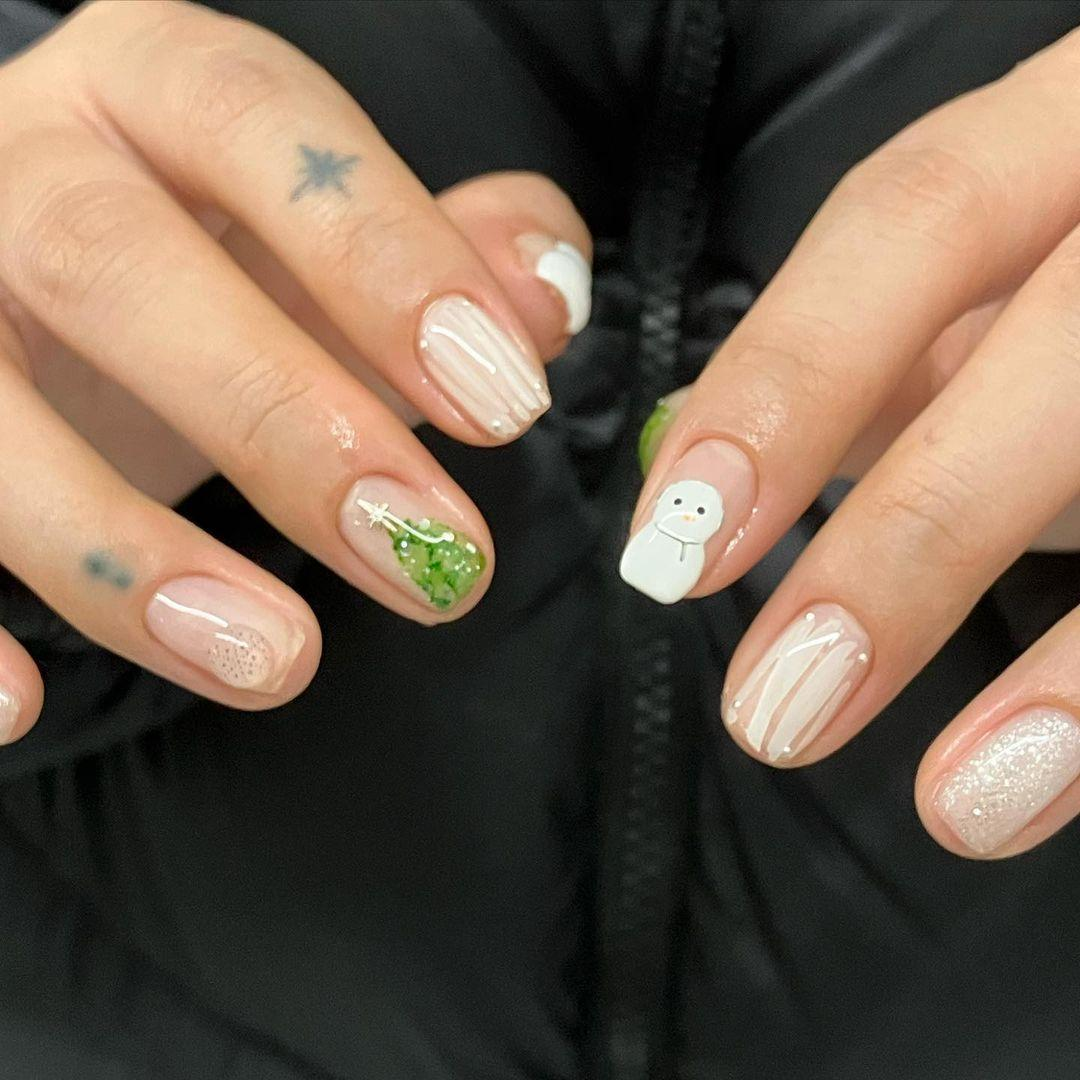nail: (720, 598, 874, 767), (617, 431, 760, 604), (929, 699, 1078, 857), (337, 470, 491, 616), (412, 289, 552, 444), (142, 569, 305, 697), (533, 240, 592, 335), (0, 623, 45, 745)
